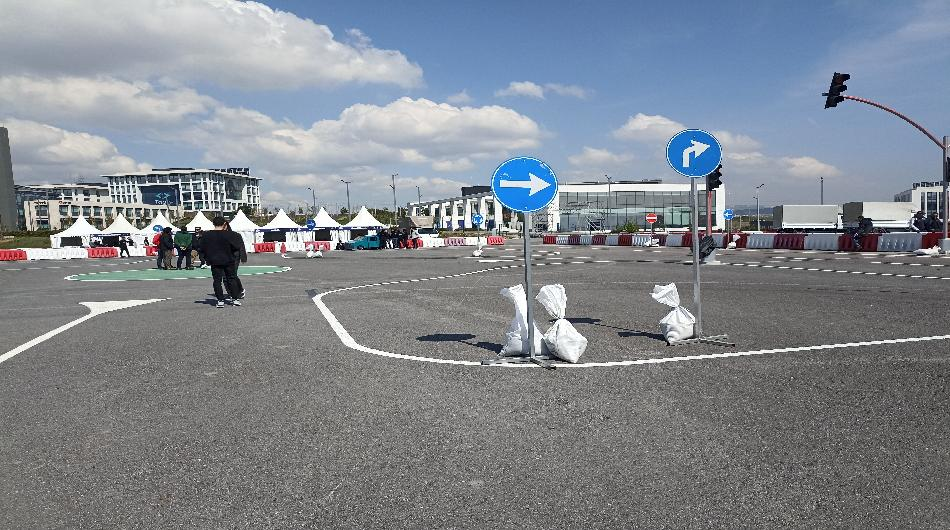saga_mecburi_1: (491, 154, 559, 209)
saga_mecburi_2: (665, 126, 723, 179)
